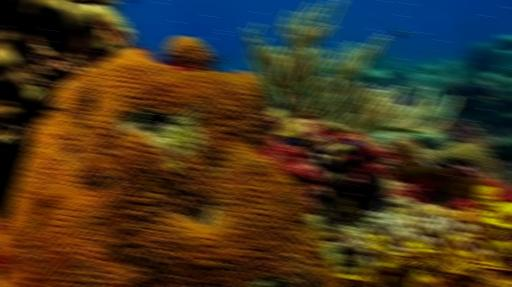Fish: (4, 96, 61, 125), (345, 138, 368, 159), (320, 216, 339, 227), (279, 136, 300, 145), (395, 95, 412, 106), (379, 198, 392, 212), (310, 189, 323, 200), (209, 54, 220, 64), (394, 29, 407, 37), (130, 0, 134, 2)
